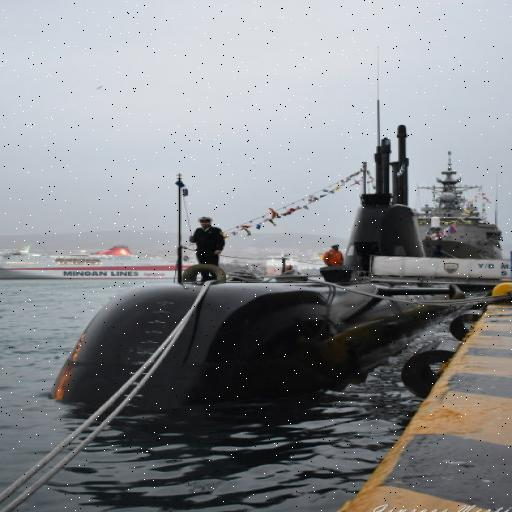submarine: (34, 107, 497, 418)
